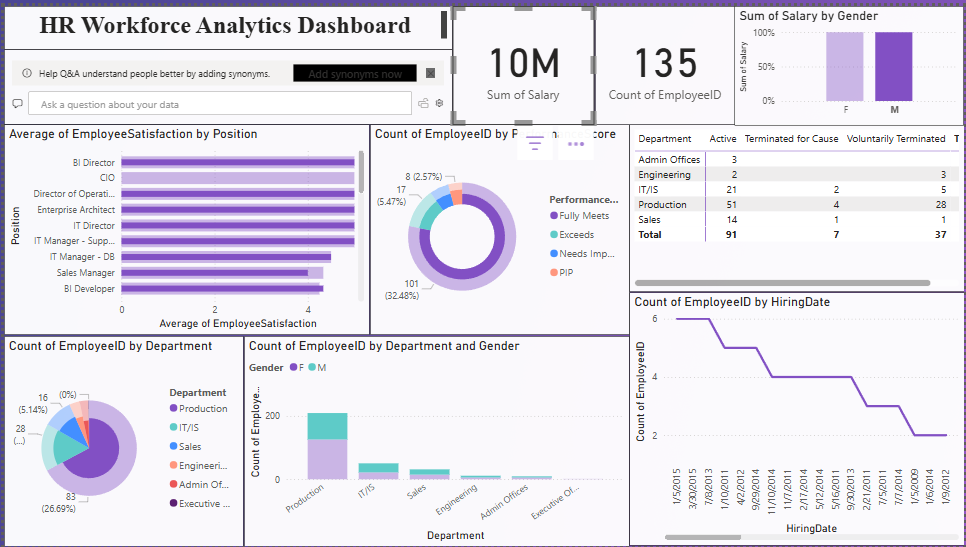

The dashboard page shown, as its layout file describes it:
{"tool":"powerbi","page":{"name":"Page 1","canvas":[1280,720],"ordinal":0},"visuals":[{"type":"pieChart","fields":{"Y":["CountNonNull(HRData.EmployeeID)"],"Category":["HRData.Department"]},"box":[0,439.3,319.6,280.4],"z":0},{"type":"columnChart","fields":{"Category":["HRData.Department"],"Series":["HRData.Gender"],"Y":["CountNonNull(HRData.EmployeeID)"]},"box":[319.6,439.3,514.3,280.4],"z":1000},{"type":"clusteredBarChart","fields":{"Category":["HRData.Position"],"Y":["Avg(HRData.EmployeeSatisfaction)"]},"box":[0,158.9,487.5,280.4],"z":2000},{"type":"donutChart","fields":{"Category":["HRData.PerformanceScore"],"Y":["CountNonNull(HRData.EmployeeID)"]},"box":[487.5,158.9,346.4,280.4],"z":3000},{"type":"lineChart","fields":{"Category":["HRData.HiringDate"],"Y":["CountNonNull(HRData.EmployeeID)"]},"box":[833.9,382.1,446.4,337.5],"z":4000},{"type":"pivotTable","fields":{"Rows":["HRData.Department"],"Columns":["HRData.EmploymentStatus"],"Values":["CountNonNull(HRData.EmployeeID)"]},"box":[833.9,158.9,446.4,223.2],"z":5000},{"type":"textbox","box":[0,0,598.2,58.9],"z":6000},{"type":"qnaVisual","box":[0,58.9,598.2,100],"z":7000},{"type":"card","fields":{"Values":["Sum(HRData.Salary)"]},"box":[598.2,0,189.3,158.9],"z":8000},{"type":"card","fields":{"Values":["CountNonNull(HRData.EmployeeID)"]},"box":[787.5,0,187.5,158.9],"z":9000},{"type":"hundredPercentStackedColumnChart","fields":{"Category":["HRData.Gender"],"Y":["Sum(HRData.Salary)"]},"box":[974,0,306,159],"z":10000}]}

Visuals, with their boxes on the page's 1280x720 design canvas (x1, y1, x2, y2). These are canvas units, not pixel positions in the 966x547 screenshot, which may show the page scaled, cropped or inside an application window:
pieChart - CountNonNull(HRData.EmployeeID) x HRData.Department: l=0, t=439, r=320, b=720
columnChart - HRData.Department x HRData.Gender: l=320, t=439, r=834, b=720
clusteredBarChart - HRData.Position x Avg(HRData.EmployeeSatisfaction): l=0, t=159, r=488, b=439
donutChart - HRData.PerformanceScore x CountNonNull(HRData.EmployeeID): l=488, t=159, r=834, b=439
lineChart - HRData.HiringDate x CountNonNull(HRData.EmployeeID): l=834, t=382, r=1280, b=720
pivotTable - HRData.Department x HRData.EmploymentStatus: l=834, t=159, r=1280, b=382
textbox: l=0, t=0, r=598, b=59
qnaVisual: l=0, t=59, r=598, b=159
card - Sum(HRData.Salary): l=598, t=0, r=788, b=159
card - CountNonNull(HRData.EmployeeID): l=788, t=0, r=975, b=159
hundredPercentStackedColumnChart - HRData.Gender x Sum(HRData.Salary): l=974, t=0, r=1280, b=159
